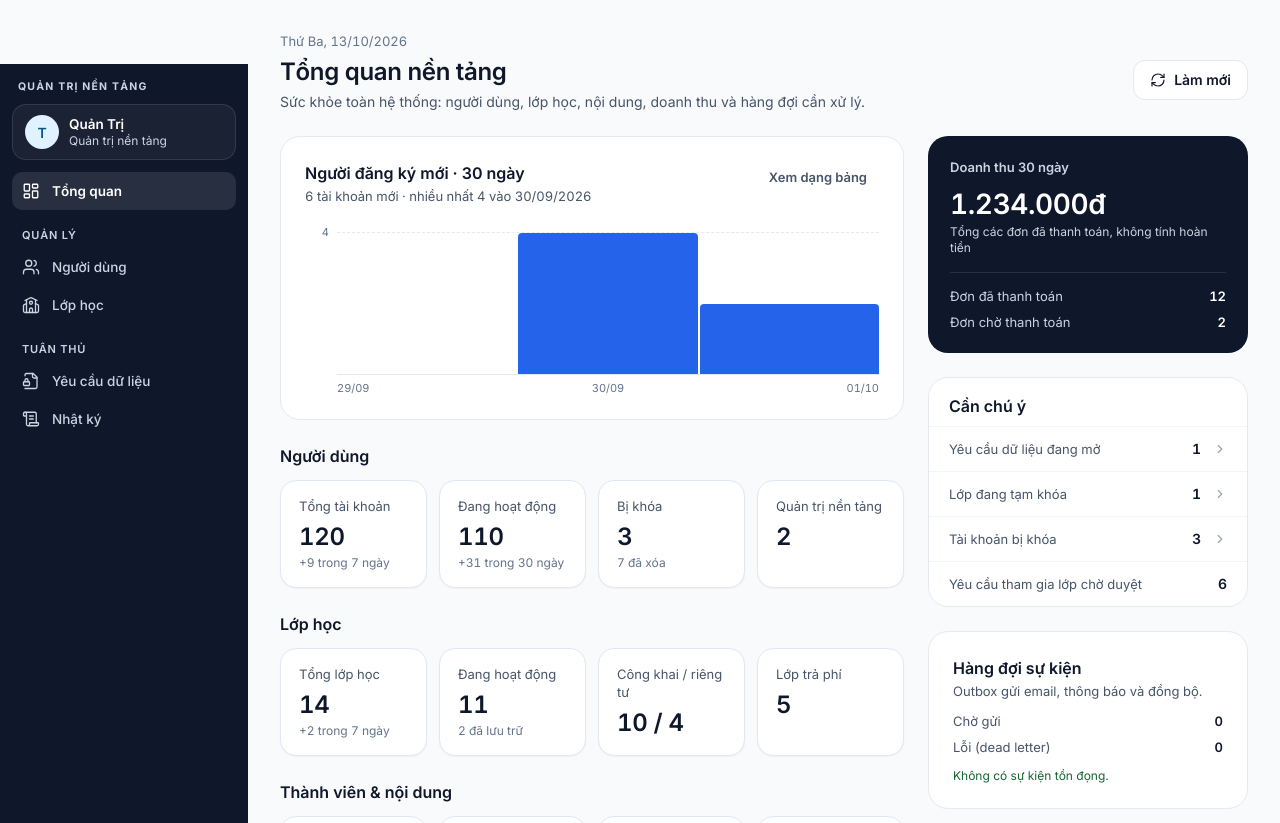
Test: AdminOverview › draws one bar per day with an accessible label and offers the same numbers as a table
Expected: the element named "30/09/2026: 4 người đăng ký" is shown, [518,233,698,374]
Expected: the text "6 tài khoản mới · nhiều nhất 4 vào 30/09/2026" is shown, [305,188,592,204]
Click the button "Xem dạng bảng" at (818, 177), box [757,161,879,193]
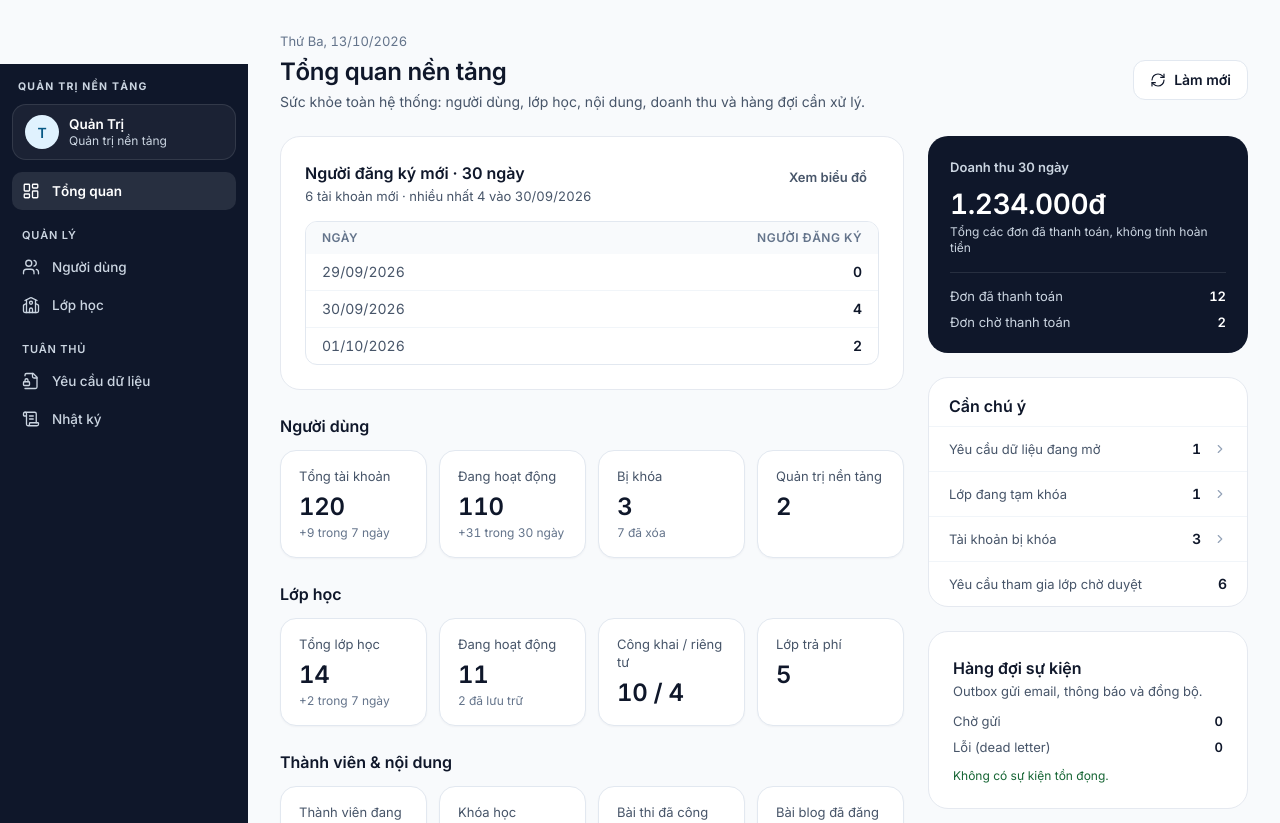
Expected: the number of rows is 4, [306,222,878,254]; [306,254,878,290]; [306,290,878,328]; [306,328,878,364]
Expected: the row "30/09/2026 4" is shown, [306,290,878,328]
